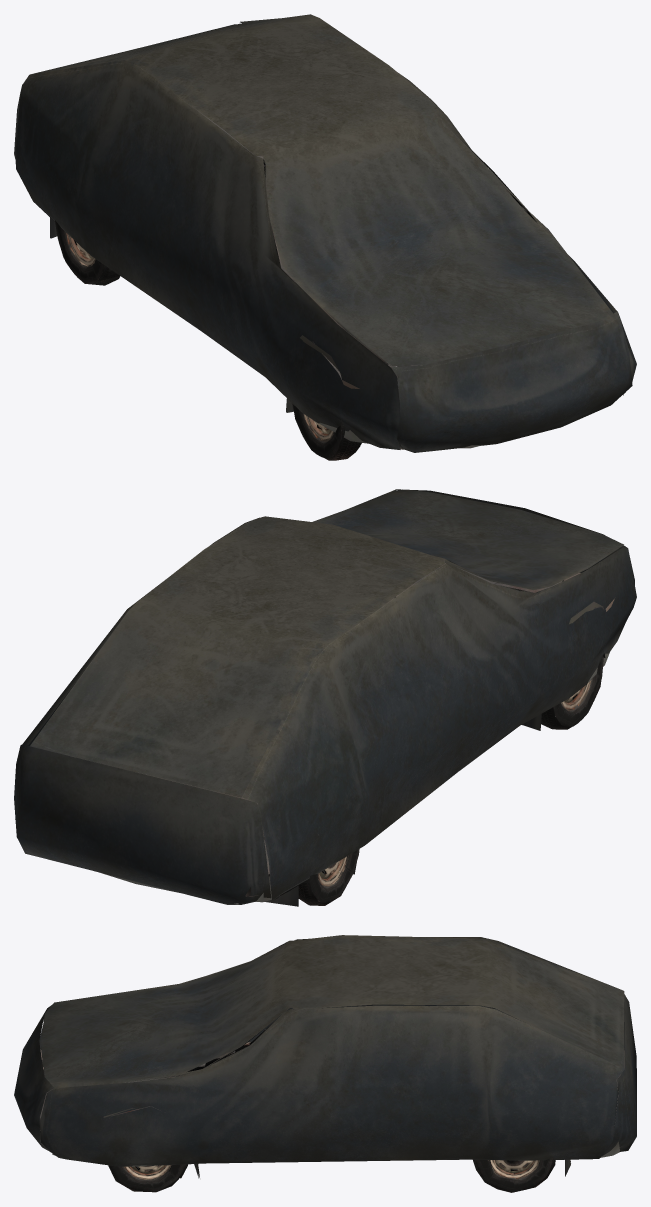
File: covered_car.glb
3 views of the same model, one above another, from view 1: azimuth 30°, elevation 25°; view 2: azimuth 150°, elevation 25°; view 3: azimuth 270°, elevation 25° (orthographic). The views are drawn at different scales.
Parts seen in each view (by area): view 1: covered_car, covered_car_wheel_02, covered_car_wheel_03; view 2: covered_car, covered_car_wheel_03, covered_car_wheel_02; view 3: covered_car, covered_car_wheel_04, covered_car_wheel_01.
Boxes of the visible parts, <box> form: covered_car: <box>14,14,636,452</box>; covered_car_wheel_02: <box>291,403,361,460</box>; covered_car_wheel_03: <box>55,220,120,285</box>; covered_car: <box>14,489,636,906</box>; covered_car_wheel_03: <box>298,849,359,905</box>; covered_car_wheel_02: <box>541,653,605,729</box>; covered_car: <box>14,935,636,1178</box>; covered_car_wheel_04: <box>473,1158,555,1192</box>; covered_car_wheel_01: <box>108,1164,187,1192</box>.
Size of the model in its own units: 1.8 by 1.41 by 4.38.
2 materials, 2 textured.
